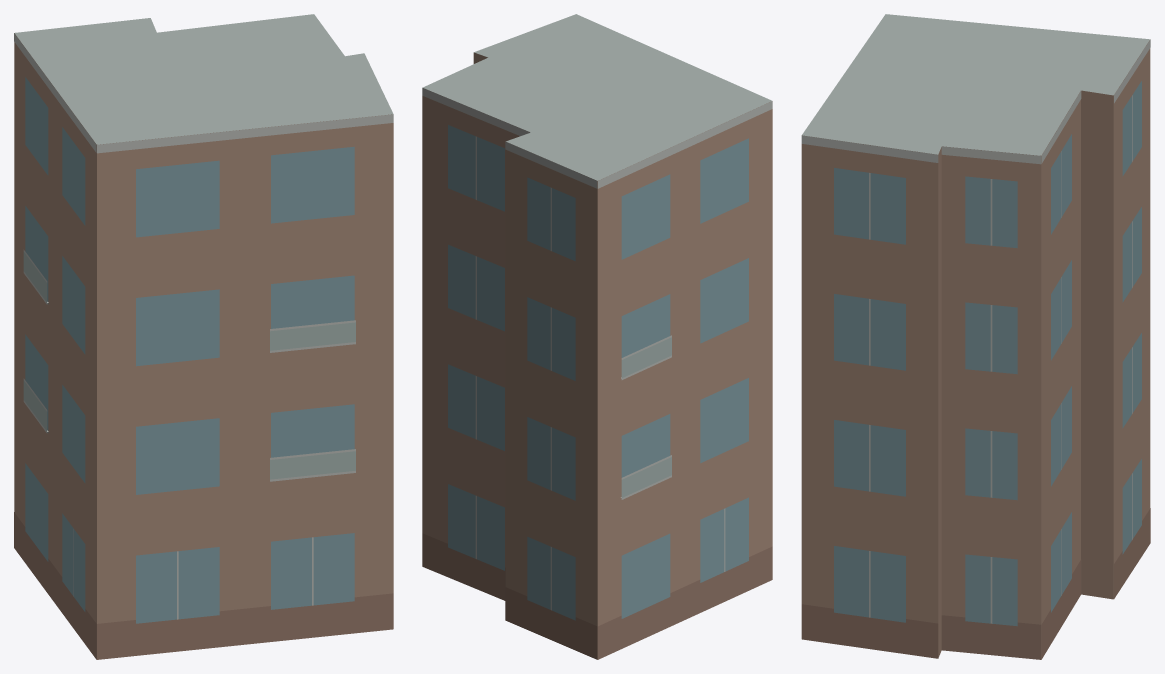
The model's file is survey-upis-32512383.glb.
The picture shows the model from 3 angles, left to right: view 1: azimuth 30°, elevation 25°; view 2: azimuth 150°, elevation 25°; view 3: azimuth 270°, elevation 25°; orthographic projection. The views are drawn at different scales.
Parts seen in each view (by area): view 1: survey-upis-32512383.tmp; view 2: survey-upis-32512383.tmp; view 3: survey-upis-32512383.tmp.
Boxes of the visible parts, bbox=[...] form: survey-upis-32512383.tmp: bbox=[14, 14, 393, 659]; survey-upis-32512383.tmp: bbox=[422, 14, 772, 659]; survey-upis-32512383.tmp: bbox=[801, 14, 1150, 659].
Size of the model in its own units: 8.76 by 14.5 by 9.1.
